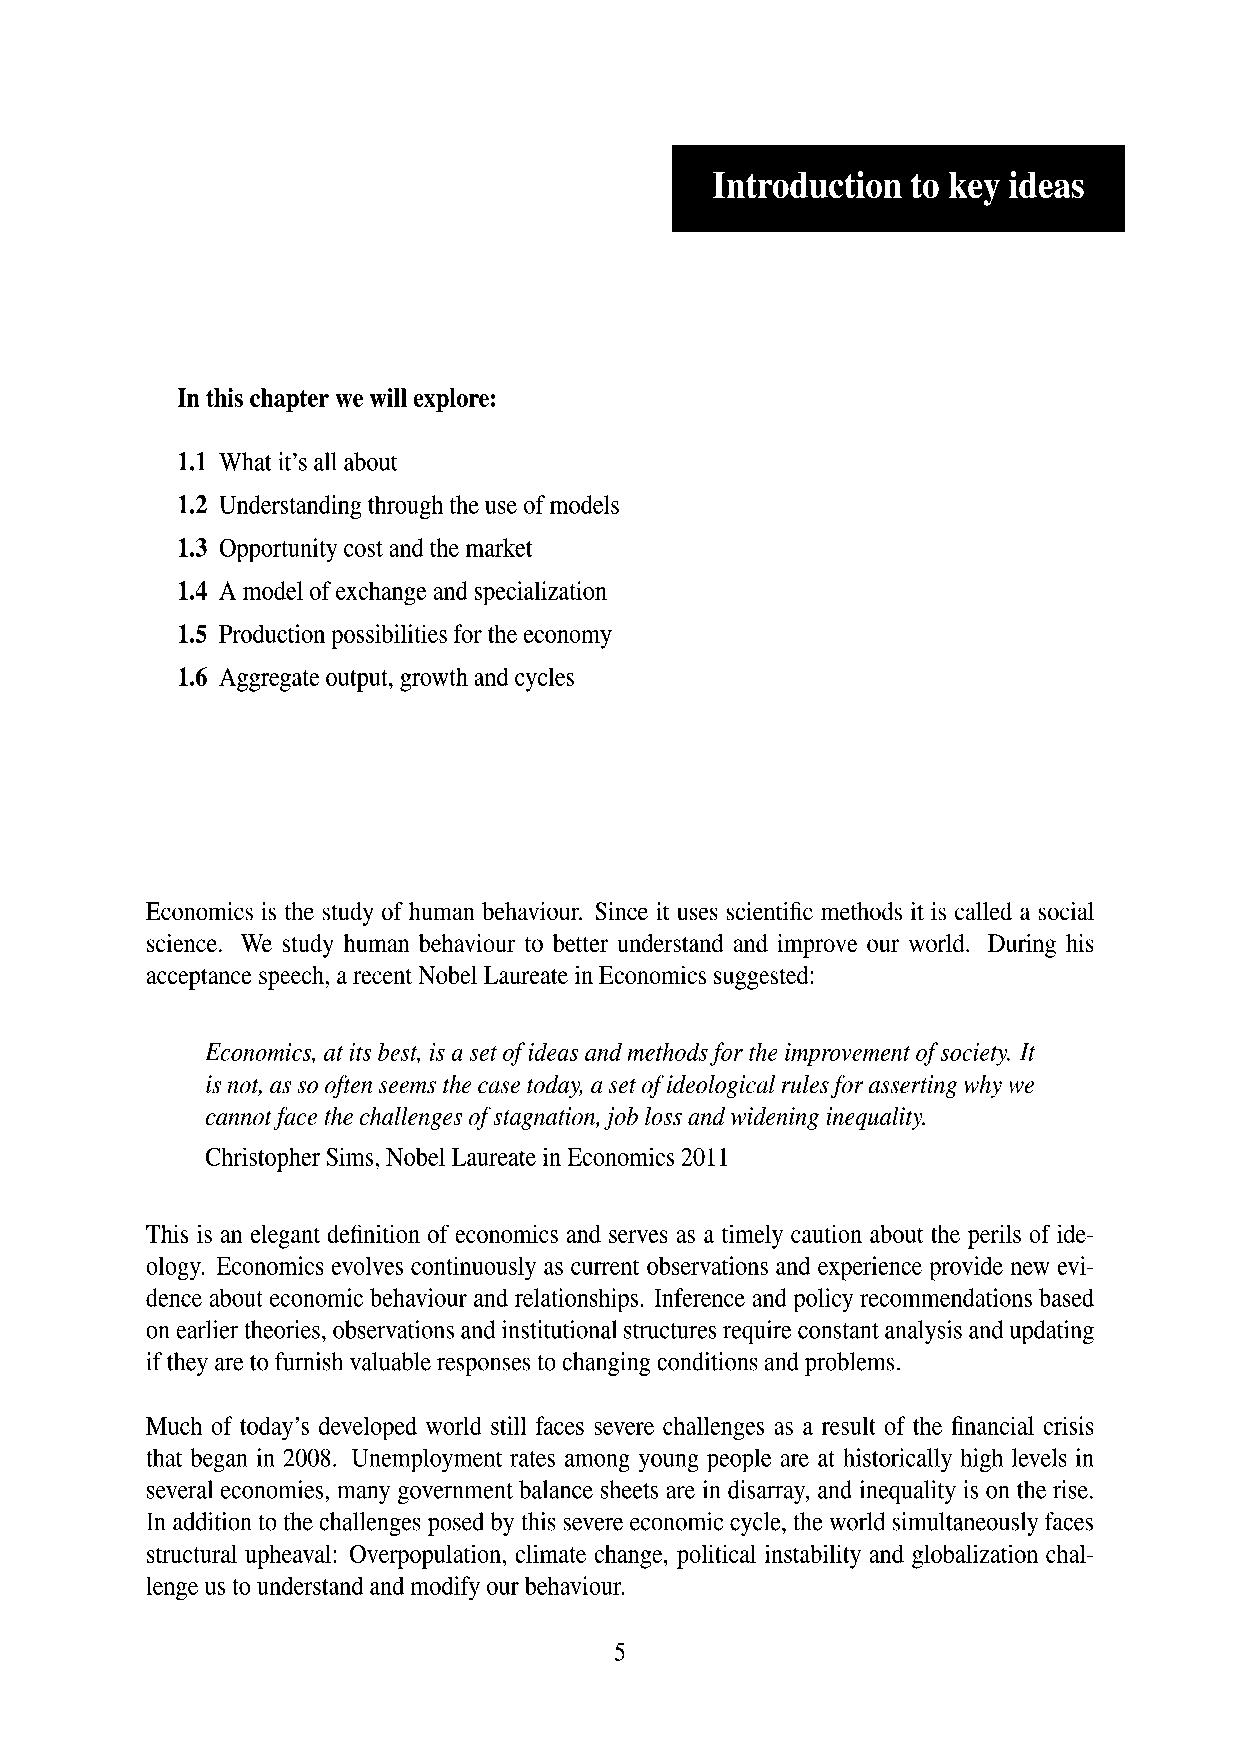chapter: (705, 166, 1090, 209)
content: (144, 381, 1096, 1604)
content_pagenumber: (608, 1639, 629, 1667)
